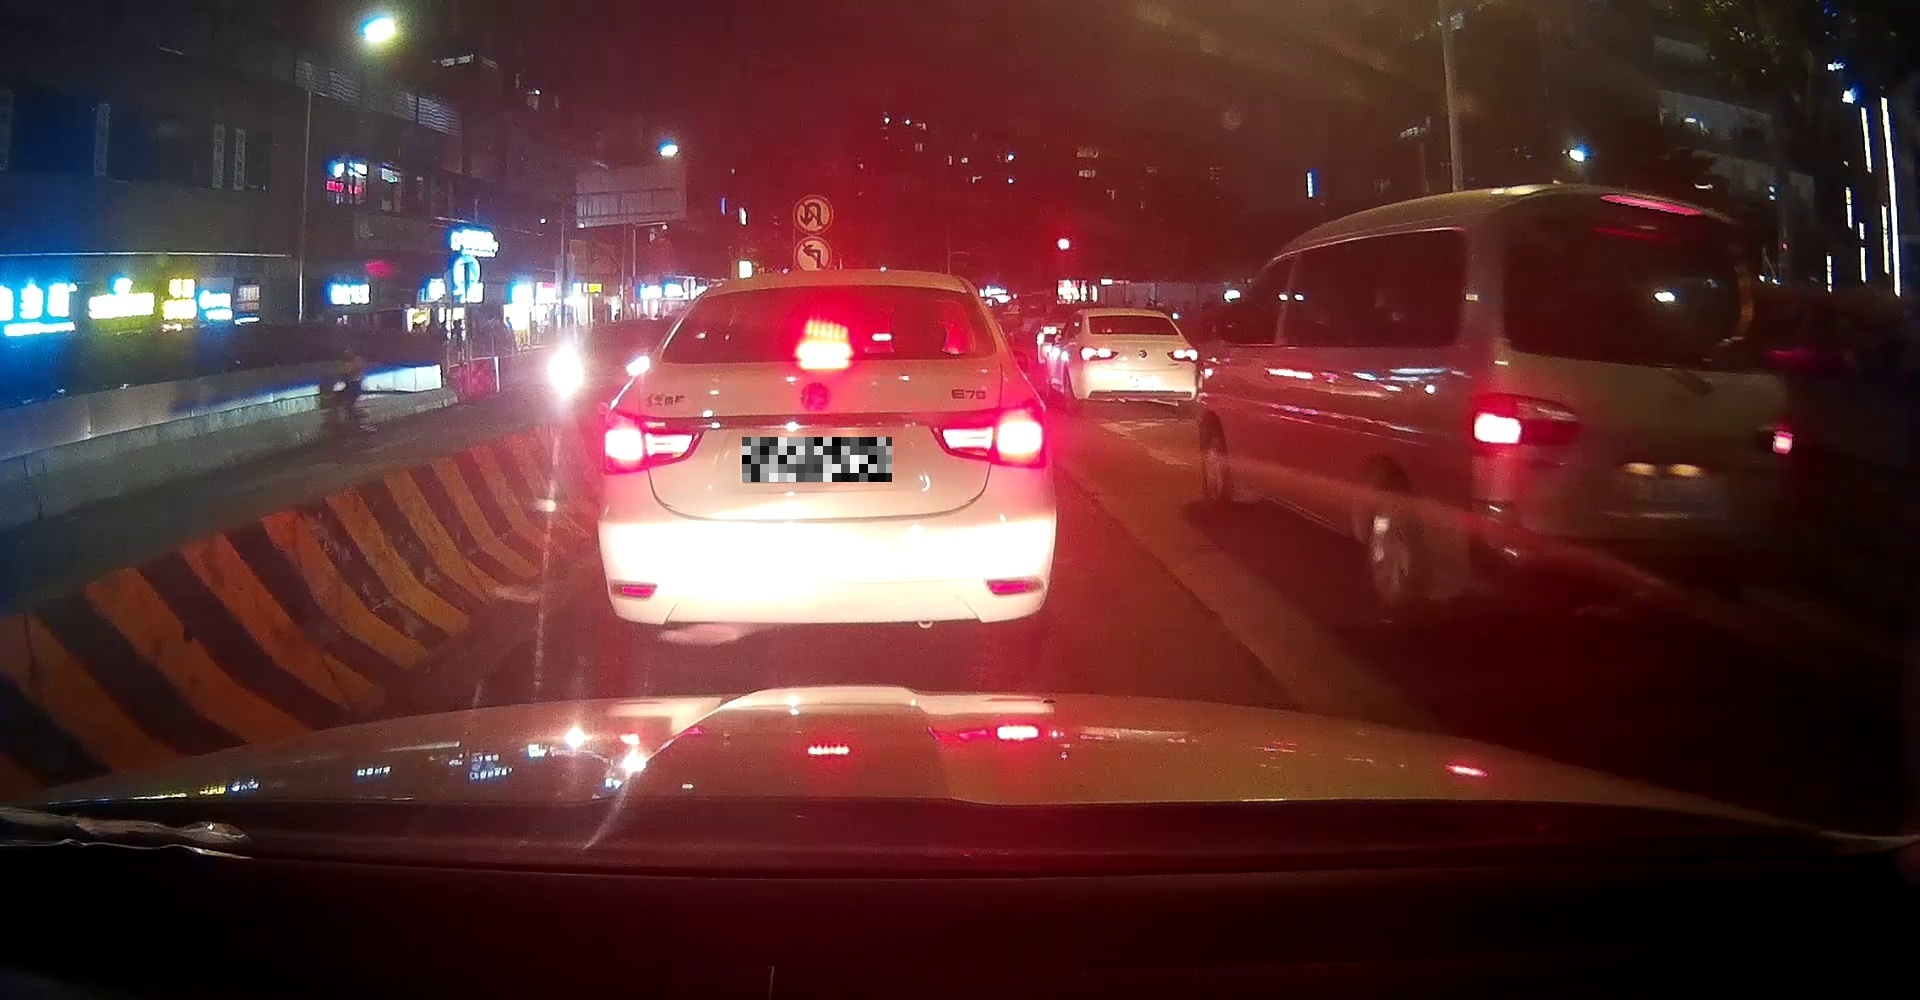L_light: (599, 406, 711, 475), (1465, 391, 1580, 452), (1079, 346, 1119, 360)
R_light: (931, 405, 1045, 468), (1751, 412, 1793, 452), (1166, 348, 1197, 362)
T_light: (1601, 193, 1702, 214), (797, 348, 852, 358), (1121, 313, 1143, 319)
night-brake: (599, 272, 1057, 648), (1465, 184, 1796, 609)
night-no: (1078, 308, 1197, 405)
plate_1: (742, 437, 891, 482)
